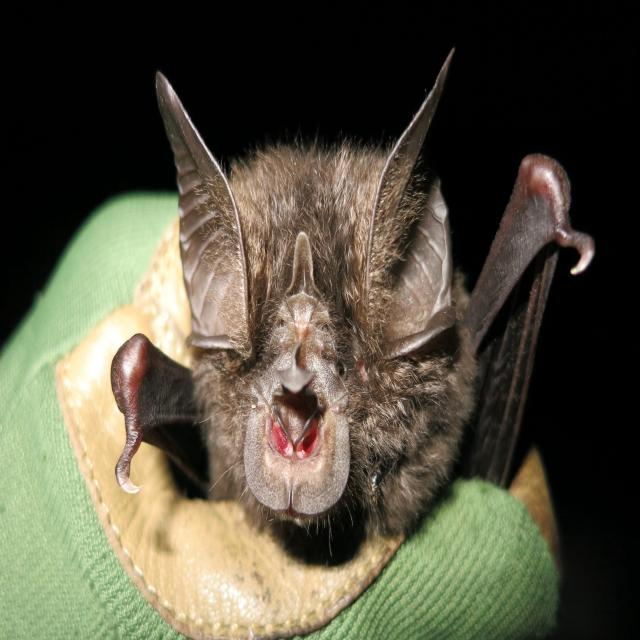Bat: (105, 48, 597, 556)
